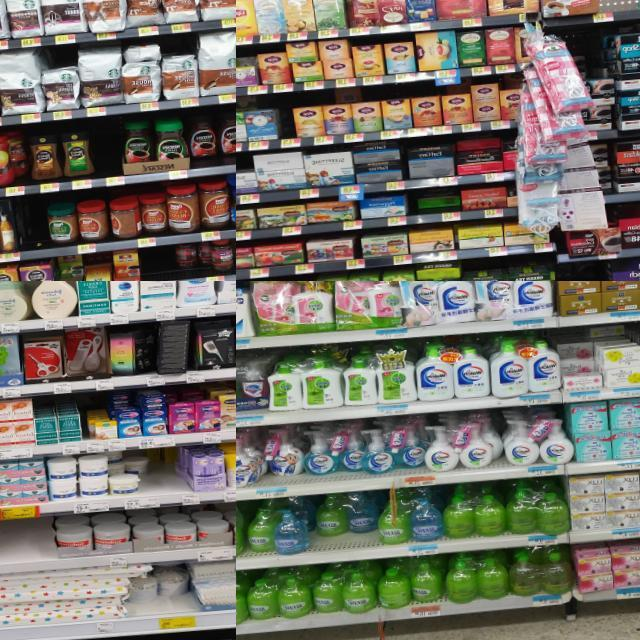Imprecise: (304, 494, 381, 554), (130, 556, 196, 620), (190, 116, 236, 168), (407, 186, 465, 222), (110, 452, 150, 499), (176, 238, 213, 275)
